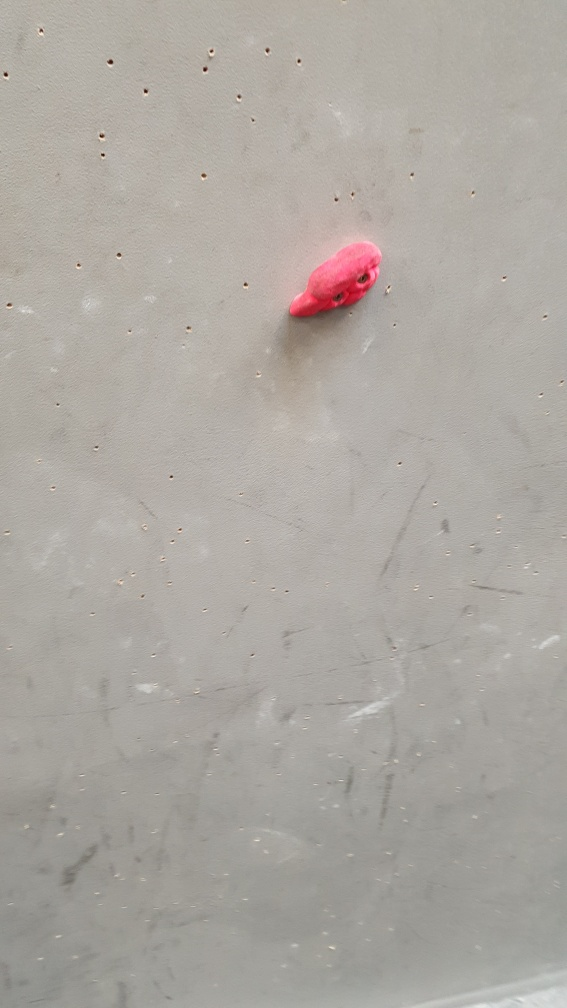Jug: (285, 237, 386, 325)
